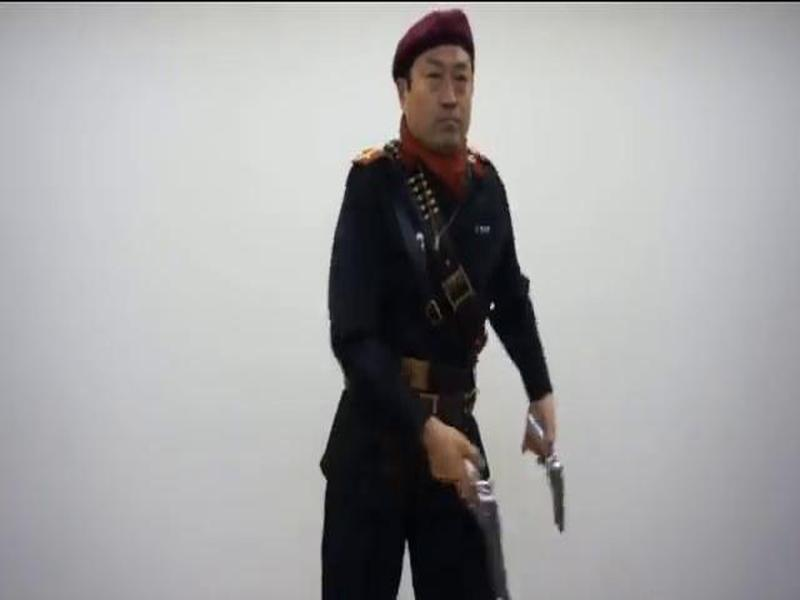Revolver: (444, 435, 518, 600), (517, 404, 586, 542)
